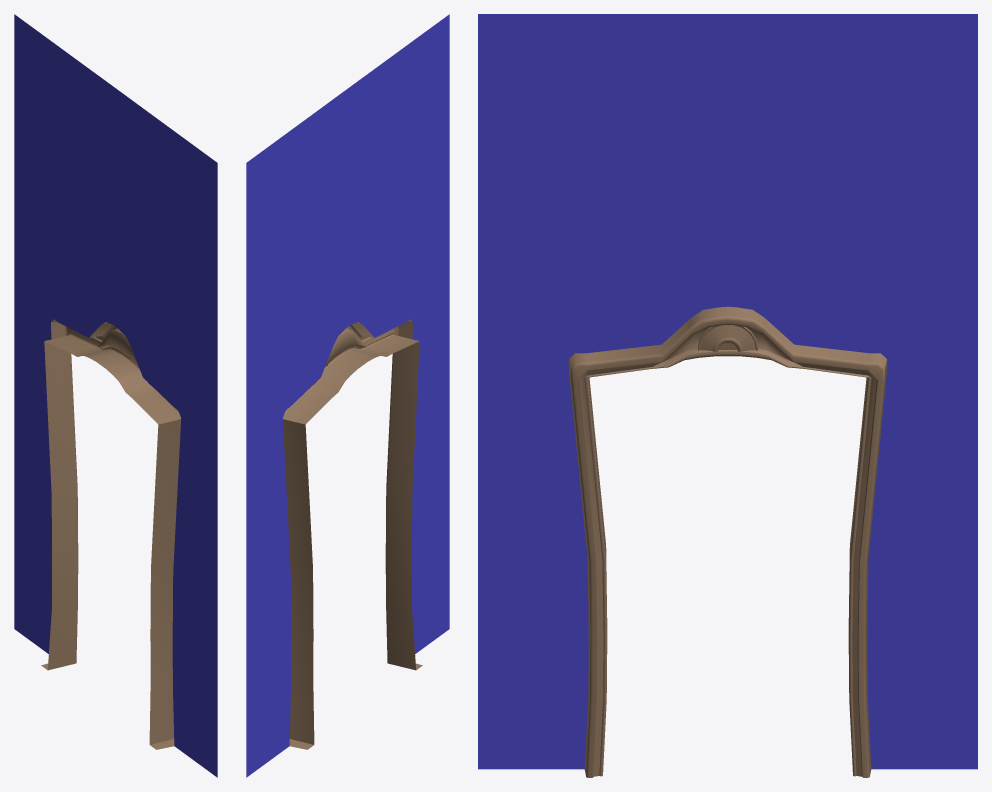
Rendered from SM_GrandePorte_low.fbx.
The picture shows the model from 3 angles, left to right: view 1: azimuth 30°, elevation 25°; view 2: azimuth 150°, elevation 25°; view 3: azimuth 270°, elevation 25°; orthographic projection. The views are drawn at different scales.
Visible parts, largest first — view 1: SM_GrandePorte_low; view 2: SM_GrandePorte_low; view 3: SM_GrandePorte_low.
Boxes of the visible parts, x1,y1,x2,y2 form: SM_GrandePorte_low: [14, 14, 217, 777]; SM_GrandePorte_low: [246, 14, 449, 777]; SM_GrandePorte_low: [478, 14, 977, 777].
Size of the model in its own units: 54.46 by 1000 by 600.
